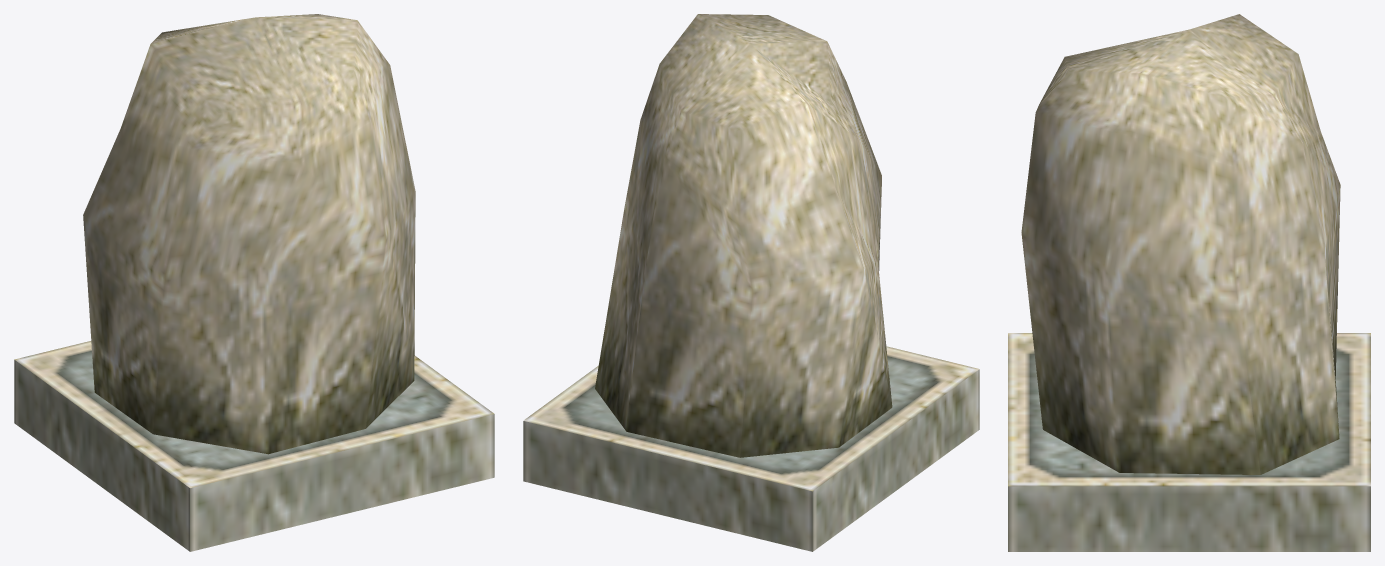
File: stone_big.glb
3 views of the same model, side by side, from view 1: azimuth 30°, elevation 25°; view 2: azimuth 150°, elevation 25°; view 3: azimuth 270°, elevation 25° (orthographic). The views are drawn at different scales.
Visible parts, largest first — view 1: stone_big; view 2: stone_big; view 3: stone_big.
Boxes of the visible parts, x1,y1,x2,y2 form: stone_big: [14, 14, 494, 551]; stone_big: [523, 14, 979, 551]; stone_big: [1008, 14, 1370, 551].
Size of the model in its own units: 5 by 6.79 by 5.
Materials: 1 (1 with a texture image).
